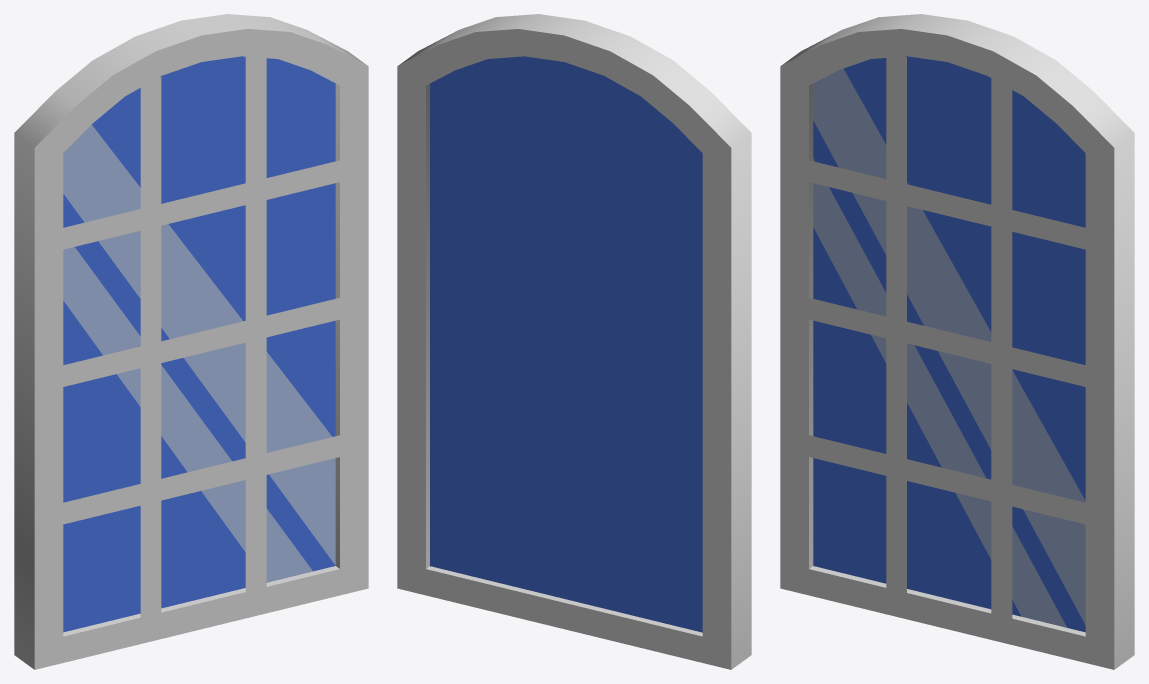
The model's file is Window.fbx.
3 views of the same model, side by side, from view 1: azimuth 30°, elevation 25°; view 2: azimuth 150°, elevation 25°; view 3: azimuth 330°, elevation 25° (orthographic).
Visible parts, largest first — view 1: Window; view 2: Window; view 3: Window.
Part boxes in pixels (left/top/right/bottom): Window: left=14, top=14, right=368, bottom=669; Window: left=397, top=14, right=751, bottom=669; Window: left=780, top=14, right=1134, bottom=669.
Bounding box in the file's own units: 322 × 547 × 33.97.
